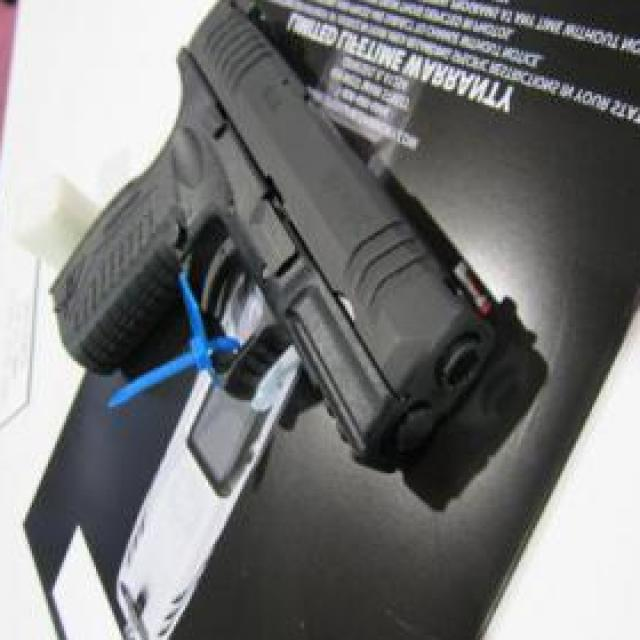pistol: (50, 0, 494, 471)
